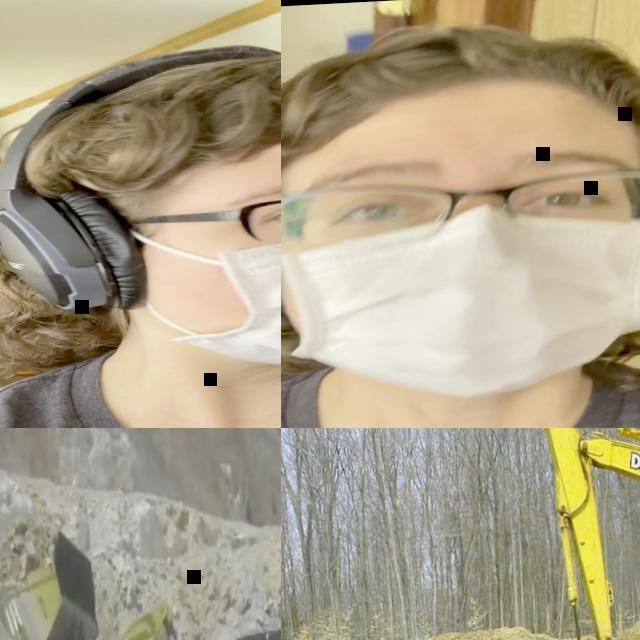Mask: (281, 211, 640, 403), (114, 214, 281, 381)
NO-Hardhat: (281, 11, 640, 172), (22, 42, 281, 192)
Person: (281, 7, 640, 428), (0, 32, 281, 428)
machinery: (0, 493, 281, 640), (540, 428, 640, 640)
